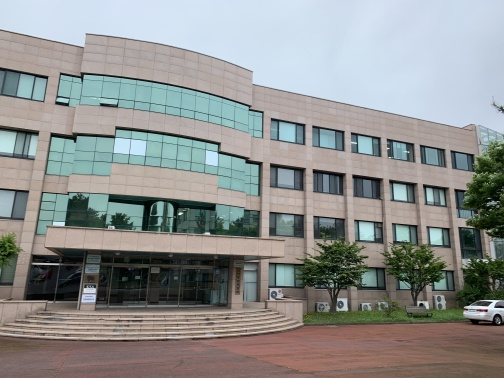Joint Experimental Labs: (5, 34, 496, 333)
